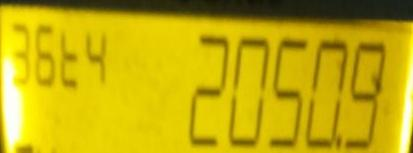.: (184, 33, 228, 149)
0: (334, 133, 344, 150)
1: (304, 39, 348, 147), (229, 37, 269, 146)
6: (264, 37, 309, 146)
:: (345, 43, 385, 149)
